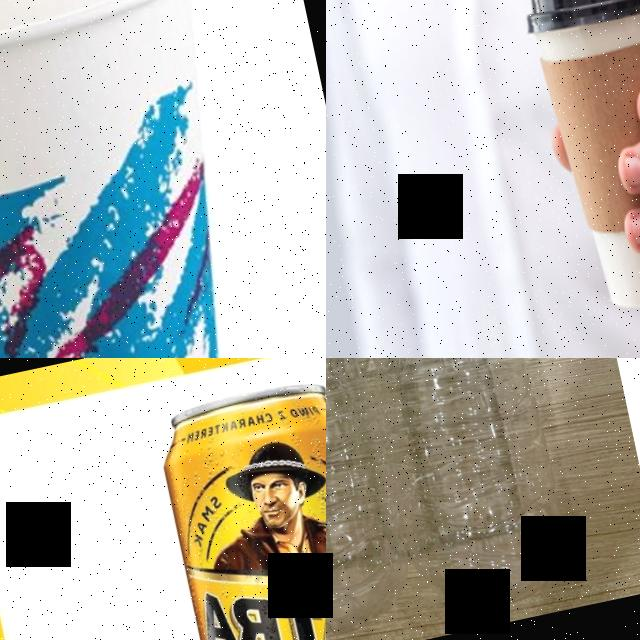bottle: (326, 358, 578, 621), (326, 358, 420, 640)
can: (149, 371, 326, 640)
cup: (0, 0, 319, 358), (516, 0, 640, 322)
